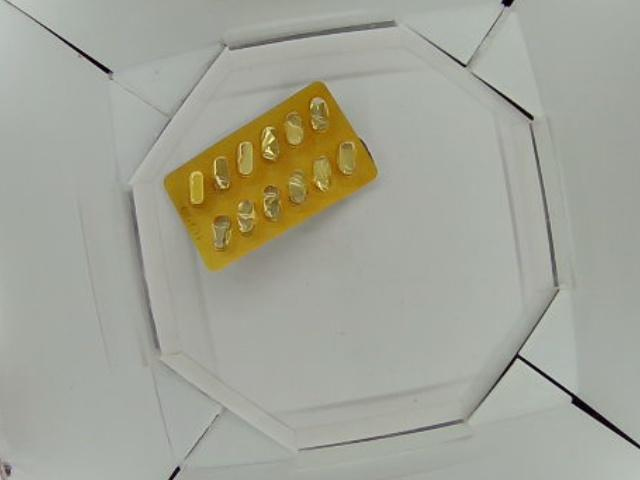Medicine: (164, 78, 380, 270)
